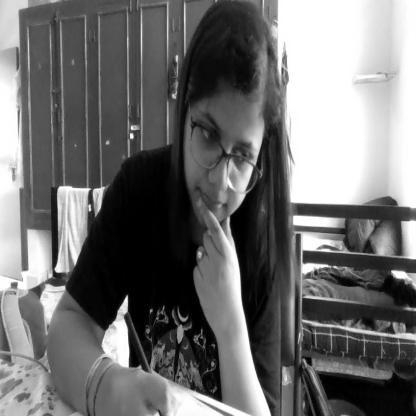Distracted: (182, 0, 287, 244)
